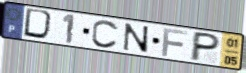1: (61, 14, 77, 46)
C: (90, 18, 121, 50)
D: (22, 7, 57, 42)
F: (160, 27, 190, 58)
N: (122, 22, 150, 55)
P: (188, 30, 223, 62)
